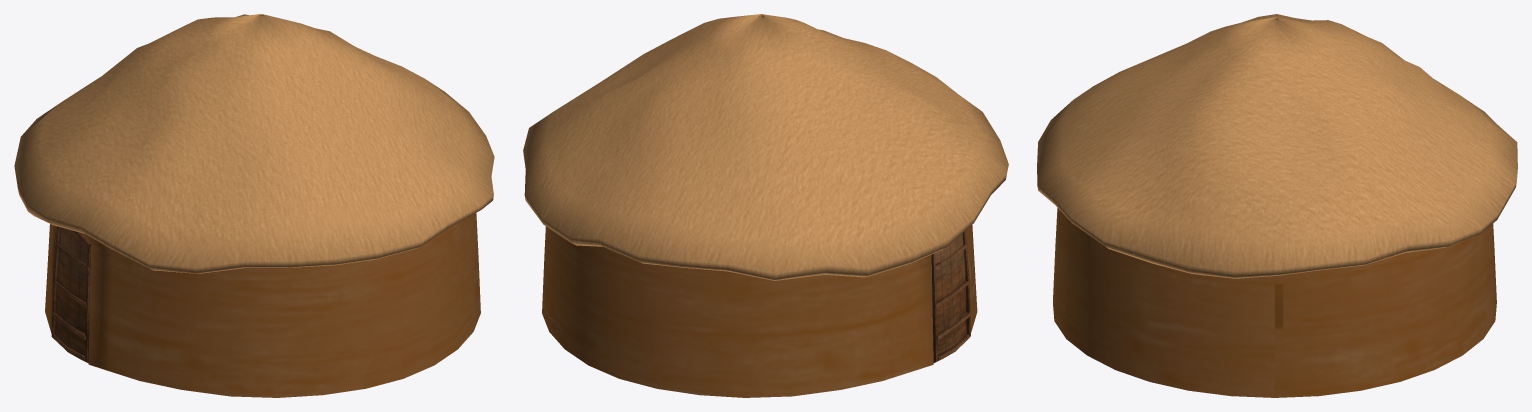
File: House 4.fbx
3 views of the same model, side by side, from view 1: azimuth 30°, elevation 25°; view 2: azimuth 150°, elevation 25°; view 3: azimuth 270°, elevation 25° (orthographic).
Parts seen in each view (by area): view 1: House.004; view 2: House.004; view 3: House.004.
Part boxes in pixels (x1,y1,x2,y2): House.004: [14, 14, 494, 397]; House.004: [523, 14, 1008, 397]; House.004: [1037, 14, 1517, 397].
Size of the model in its own units: 3.52 by 2.3 by 3.48.
